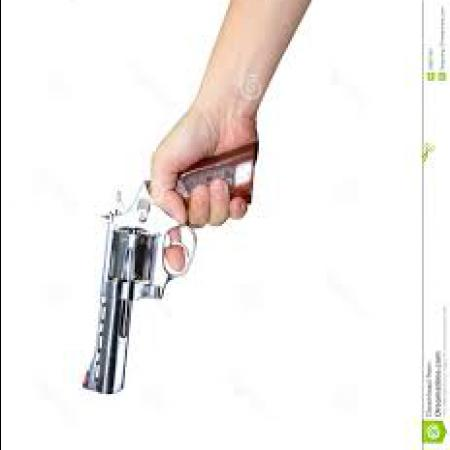Pistol: (74, 147, 258, 398)
